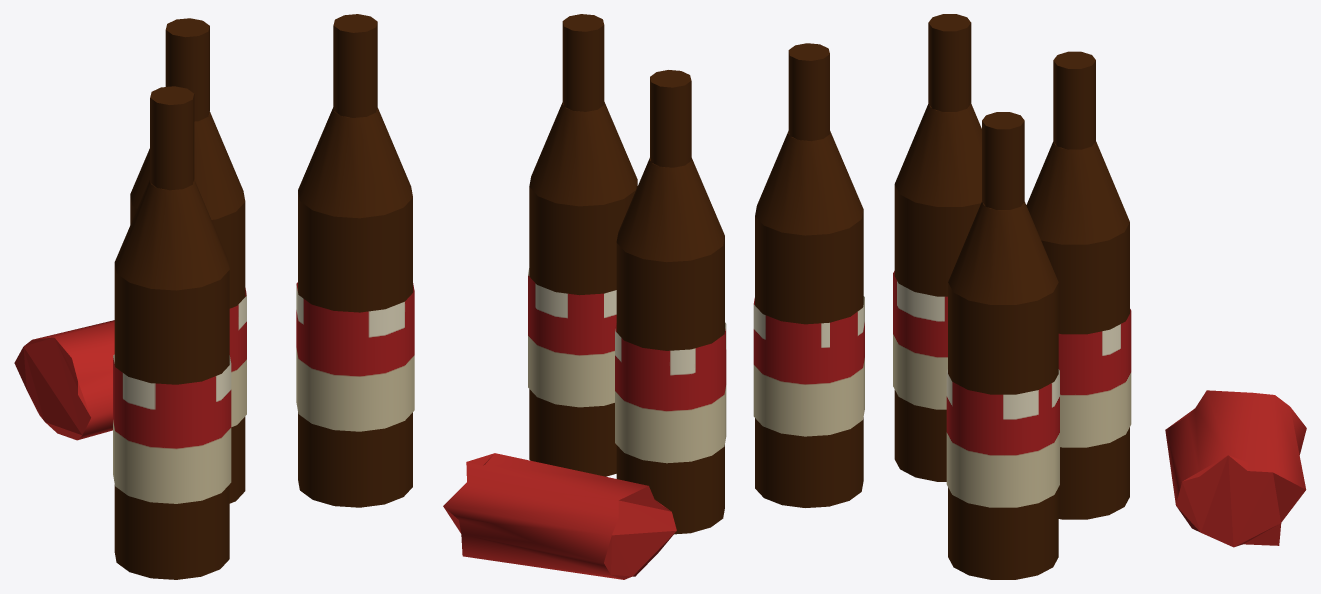
The model's file is desk_bottles.glb.
3 renders of one model, left to right at view 1: azimuth 30°, elevation 25°; view 2: azimuth 150°, elevation 25°; view 3: azimuth 270°, elevation 25°, orthographic. The views are drawn at different scales.
Parts seen in each view (by area): view 1: desk_bottles; view 2: desk_bottles; view 3: desk_bottles.
Boxes of the visible parts, x1=… form: desk_bottles: x1=14, y1=14, x2=414, y2=579; desk_bottles: x1=443, y1=14, x2=864, y2=579; desk_bottles: x1=893, y1=14, x2=1306, y2=579.
Size of the model in its own units: 0.192 by 0.27 by 0.2319.
3 materials, 1 textured.
